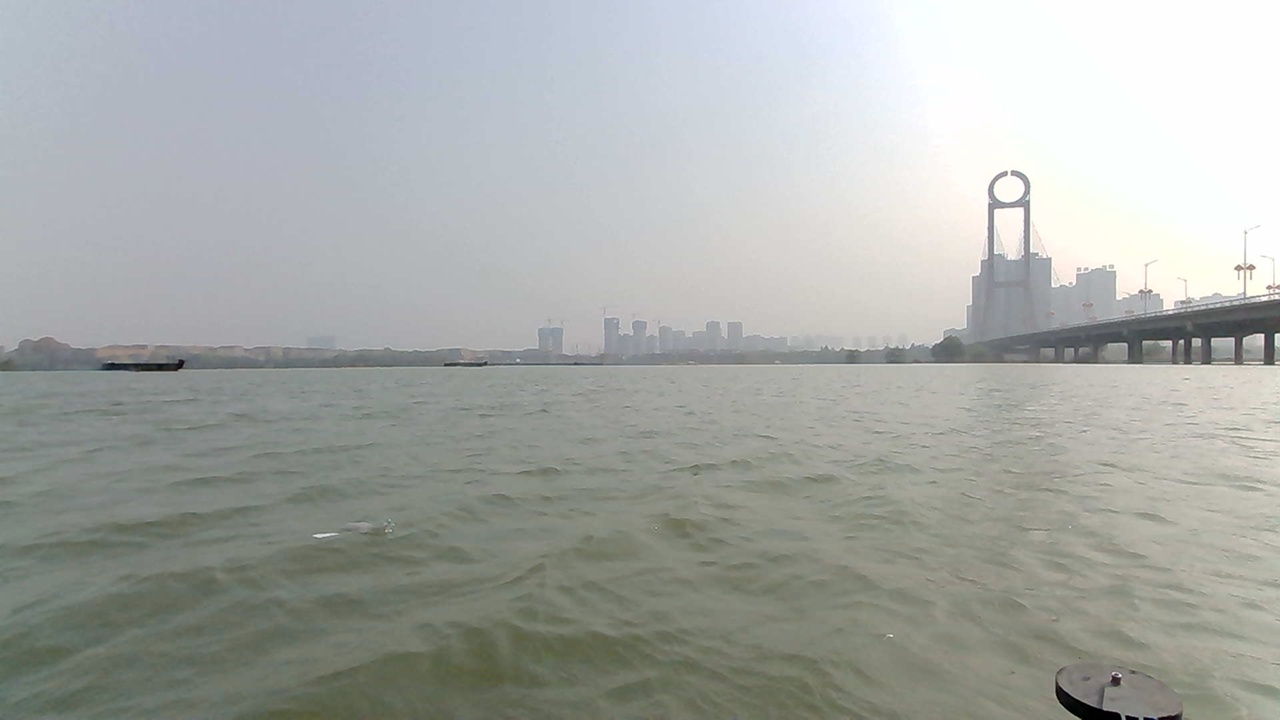bottle: (243, 495, 386, 556)
